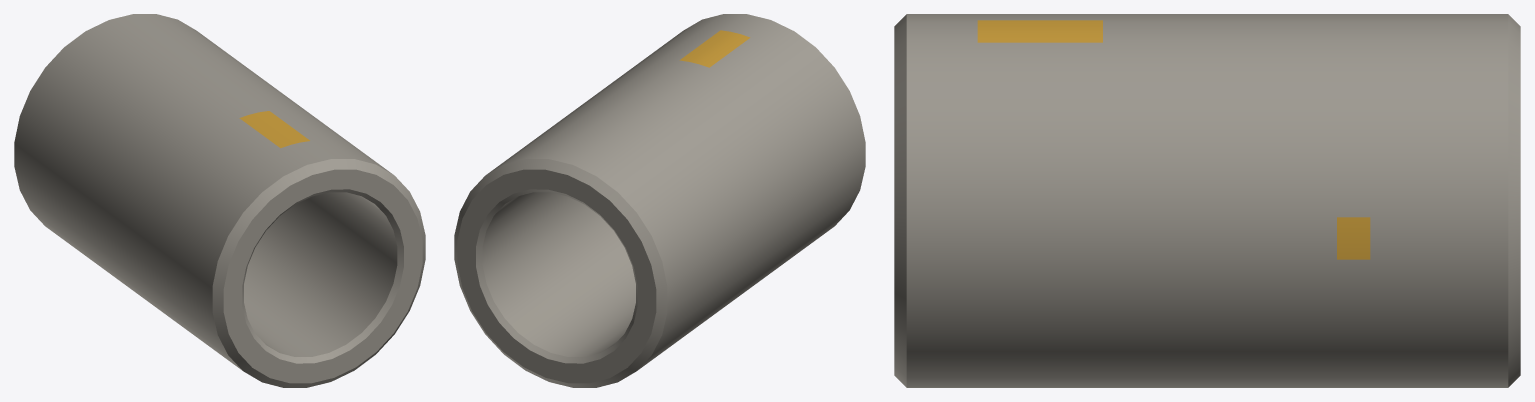
File: ConcretePipe.fbx
The picture shows the model from 3 angles, left to right: view 1: azimuth 30°, elevation 25°; view 2: azimuth 150°, elevation 25°; view 3: azimuth 270°, elevation 25°; orthographic projection. The views are drawn at different scales.
Visible parts, largest first — view 1: ConcretePipe; view 2: ConcretePipe; view 3: ConcretePipe.
Part boxes in pixels (x1,y1,x2,y2): ConcretePipe: [14, 14, 425, 387]; ConcretePipe: [454, 14, 865, 387]; ConcretePipe: [894, 14, 1520, 387].
Bounding box in the file's own units: 0.8964 × 0.8992 × 1.5.
